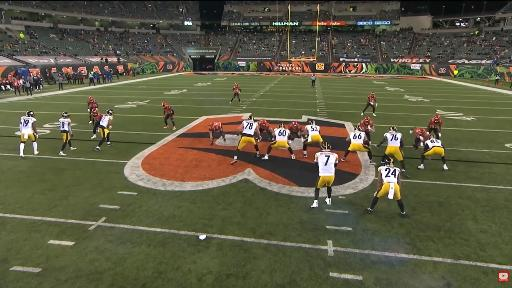Helmet: (383, 157, 393, 166), (321, 142, 330, 150), (363, 116, 371, 125), (26, 111, 34, 117), (62, 112, 69, 118), (247, 115, 254, 121), (434, 115, 440, 122), (356, 125, 363, 131), (107, 110, 114, 115), (390, 126, 397, 131), (309, 120, 315, 125), (162, 101, 167, 107), (92, 108, 97, 114), (212, 126, 217, 132), (430, 134, 435, 139), (89, 96, 93, 102), (279, 124, 284, 128), (292, 122, 298, 125), (234, 82, 238, 86), (371, 92, 374, 95)
Jersey: (315, 151, 338, 176), (378, 166, 401, 183), (20, 116, 35, 133), (385, 132, 402, 146), (242, 120, 257, 135), (275, 128, 289, 141), (414, 128, 429, 140), (350, 131, 365, 143), (59, 118, 70, 132), (425, 139, 442, 148), (100, 115, 112, 127), (360, 120, 373, 131), (258, 120, 270, 131), (306, 125, 319, 135), (289, 123, 302, 133), (430, 118, 442, 127), (210, 122, 221, 131), (88, 100, 97, 109), (163, 106, 173, 114), (92, 113, 102, 121), (233, 86, 241, 94), (368, 95, 375, 103)
Player: (367, 158, 406, 216), (311, 142, 338, 207), (377, 126, 408, 177), (231, 116, 259, 164), (342, 126, 374, 164), (262, 124, 295, 159), (418, 135, 448, 169), (20, 111, 38, 157), (95, 110, 114, 151), (302, 121, 323, 157), (59, 112, 76, 155), (410, 128, 430, 149), (209, 122, 226, 145), (162, 102, 175, 130), (360, 117, 374, 143), (362, 92, 377, 116), (258, 120, 274, 141), (428, 115, 442, 139), (91, 109, 102, 138), (88, 96, 98, 123), (288, 122, 302, 140), (230, 83, 241, 103)
